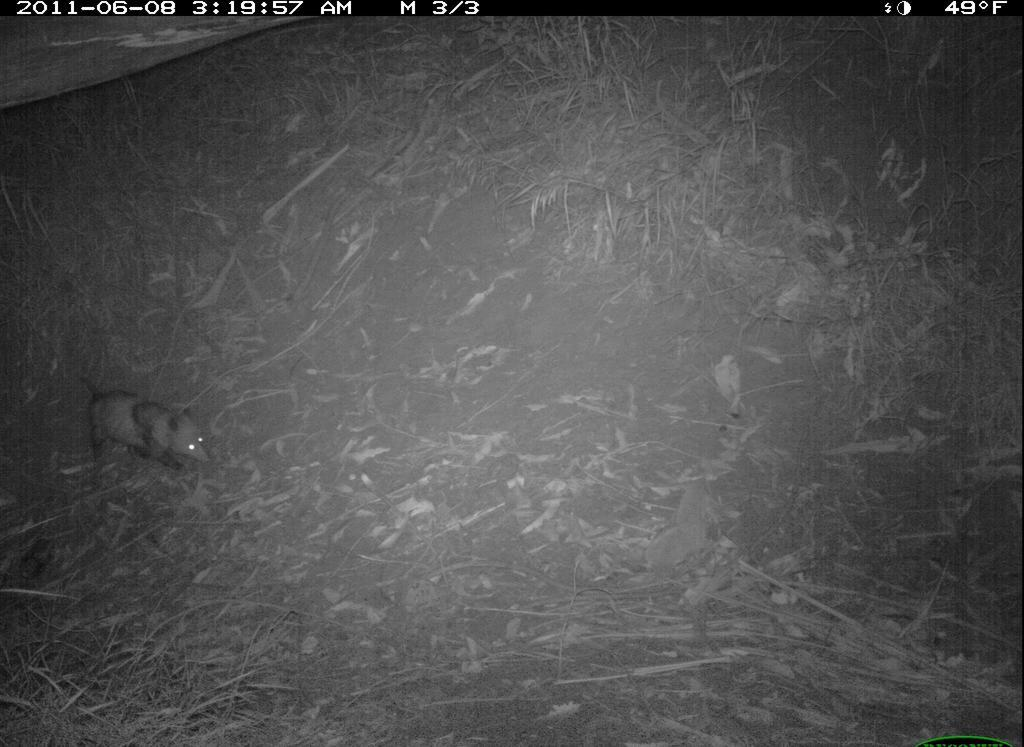opossum: (61, 377, 227, 474)
